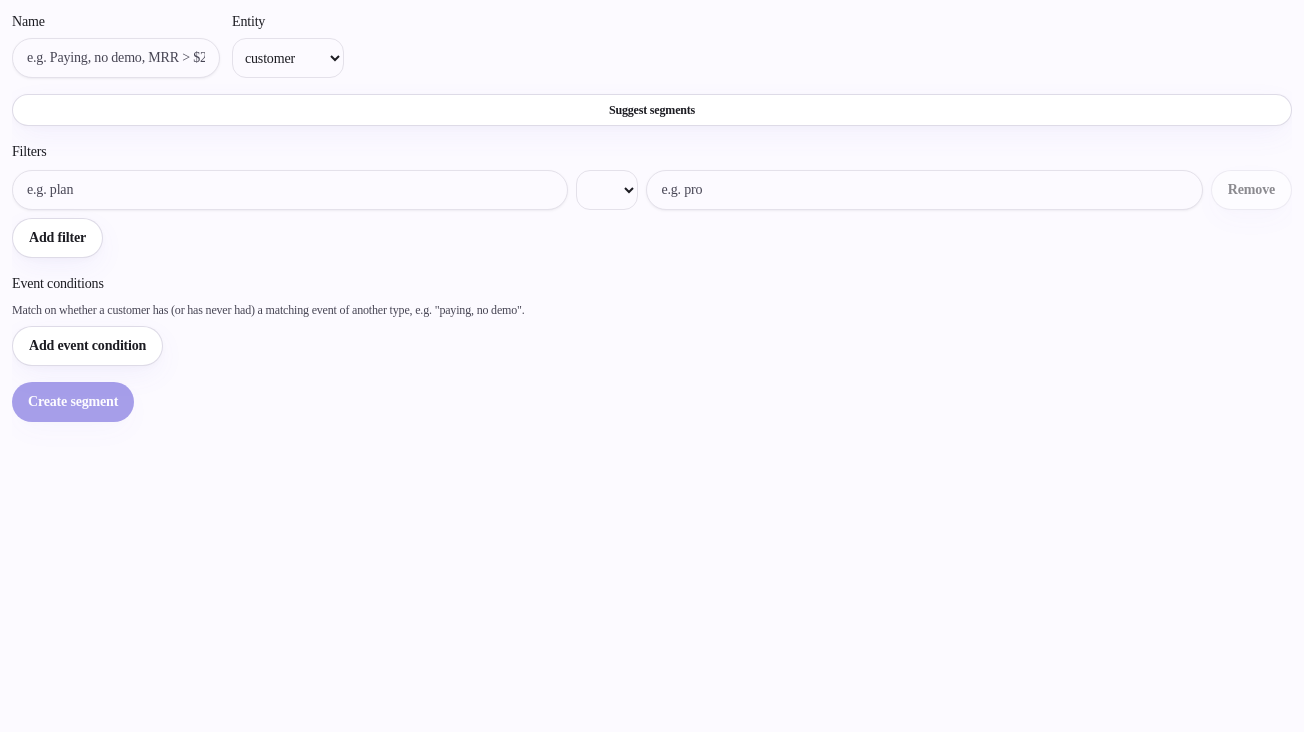
Test: CreateSegmentForm › disables submit until every event condition row has a target schema and a valid withinDays
Type "X" into the field labelled "Name" at (116, 58), box [12,38,220,78]
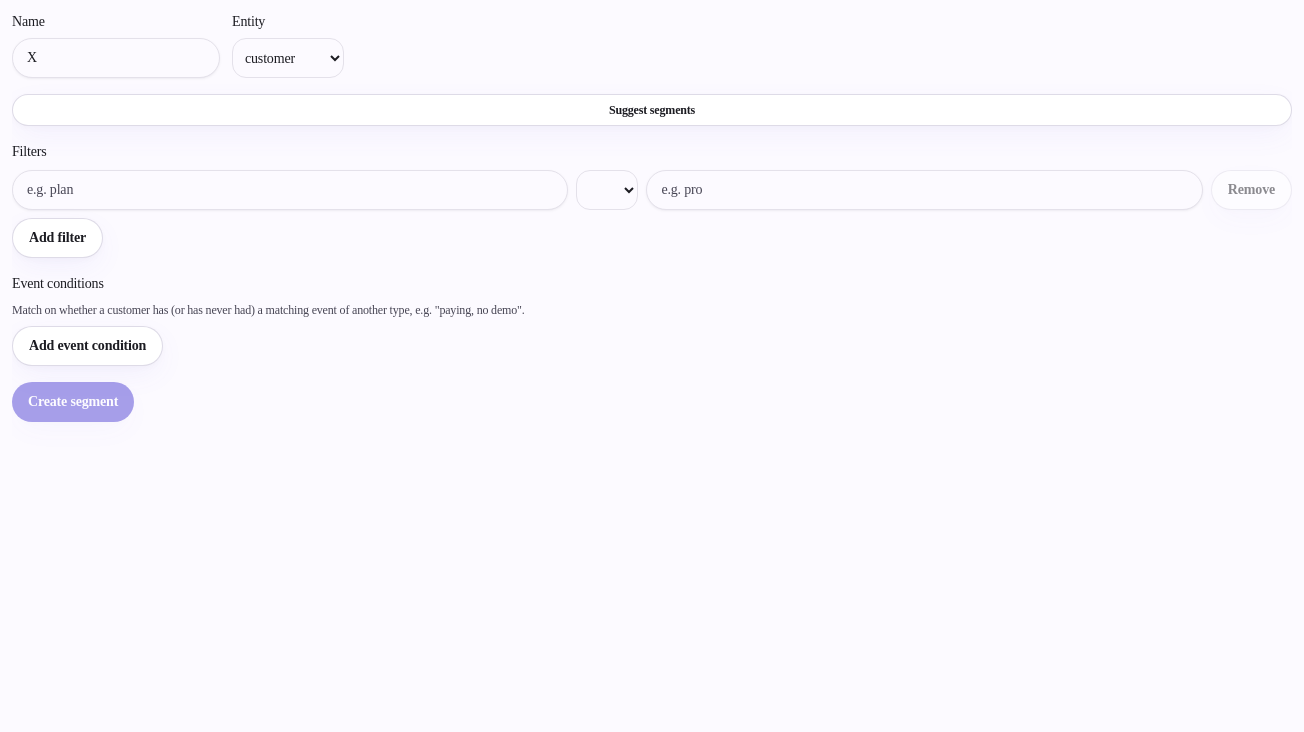
Type "plan" into the field named "Field" at (290, 190), box [12,170,568,210]
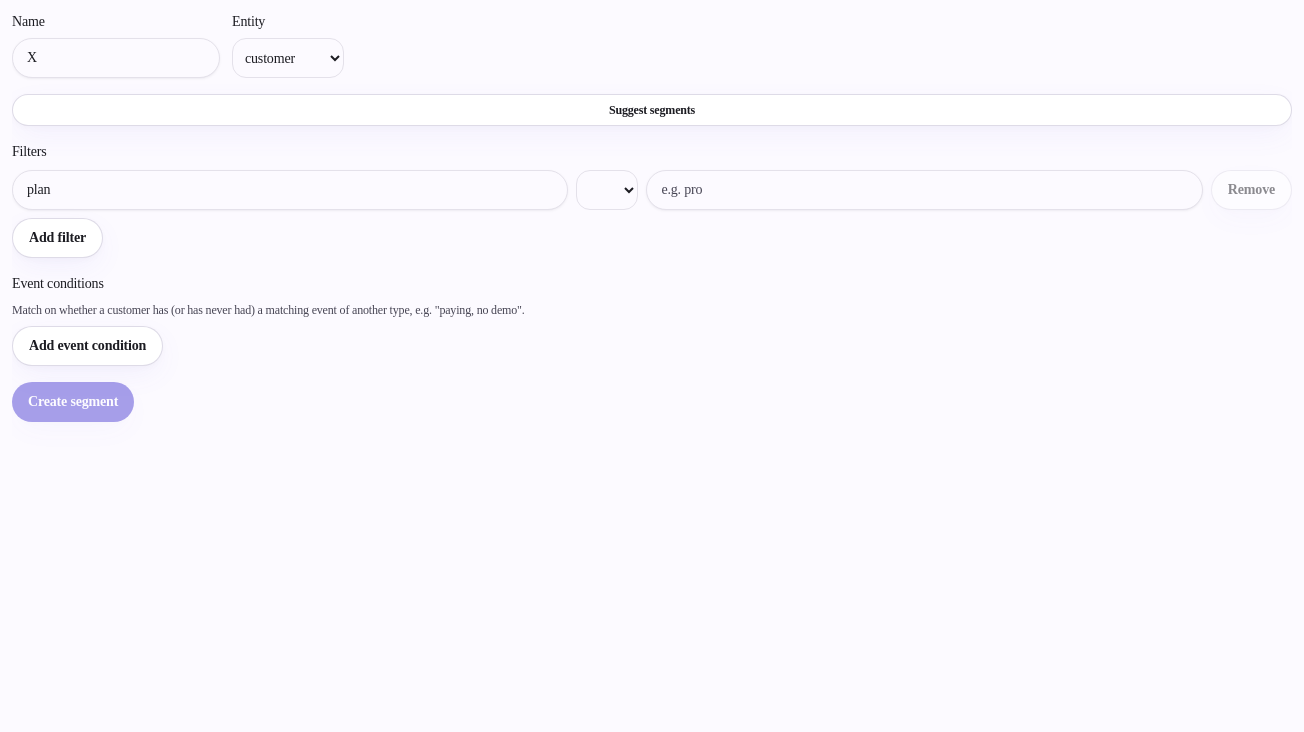
Type "pro" into the field named "Value" at (925, 190), box [646,170,1203,210]
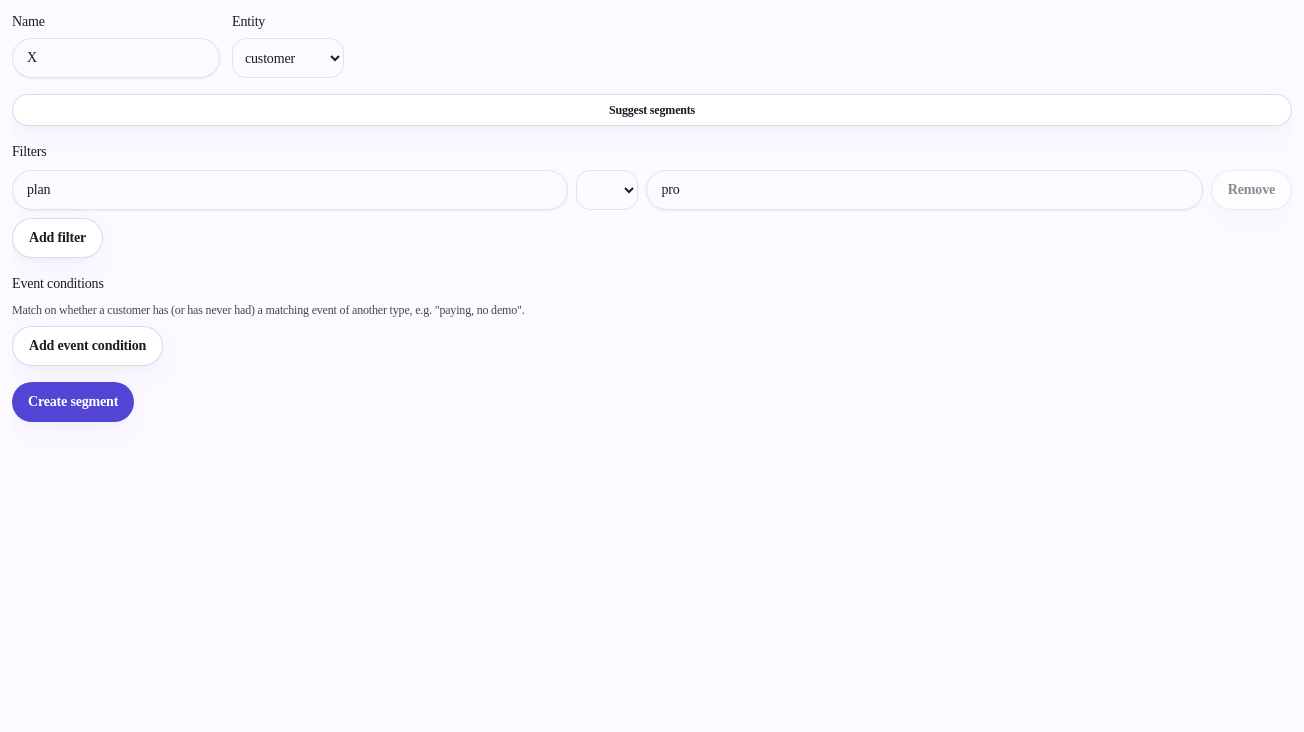
Click the button "Add event condition" at (88, 346), box [12,326,163,366]
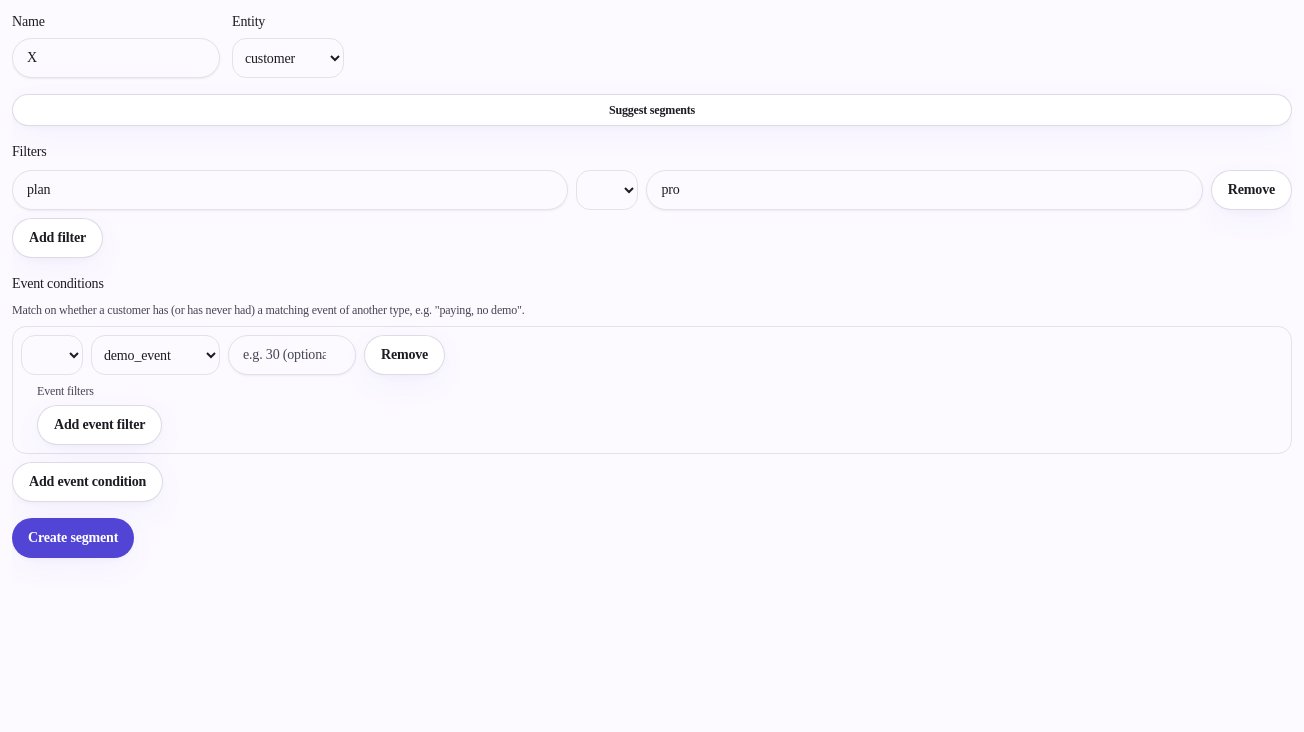
Result: the button "Create segment" is enabled at [12,518,134,558]
Type "-5" into the number field named "Within days" at (292, 355), box [228,335,356,375]
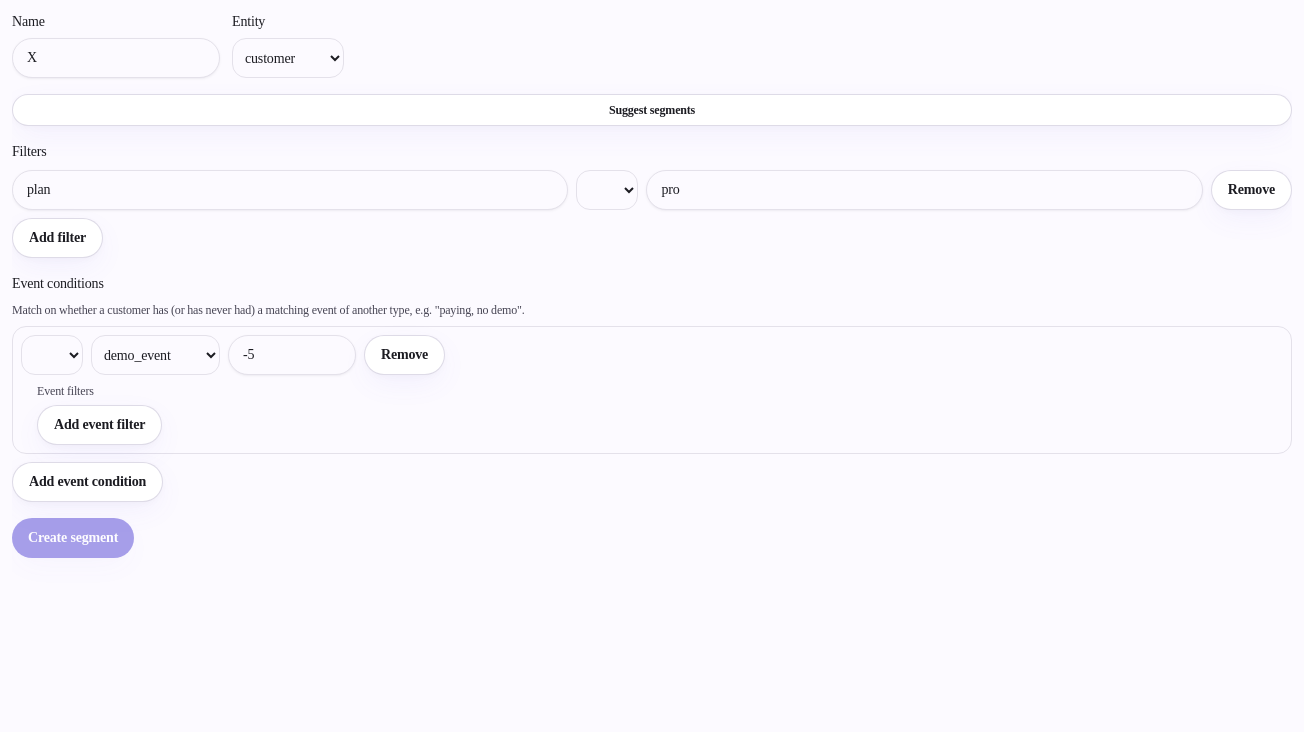
Result: the button "Create segment" is disabled at [12,518,134,558]
Replace the text in the number field named "Within days" with "10" at (292, 355), box [228,335,356,375]
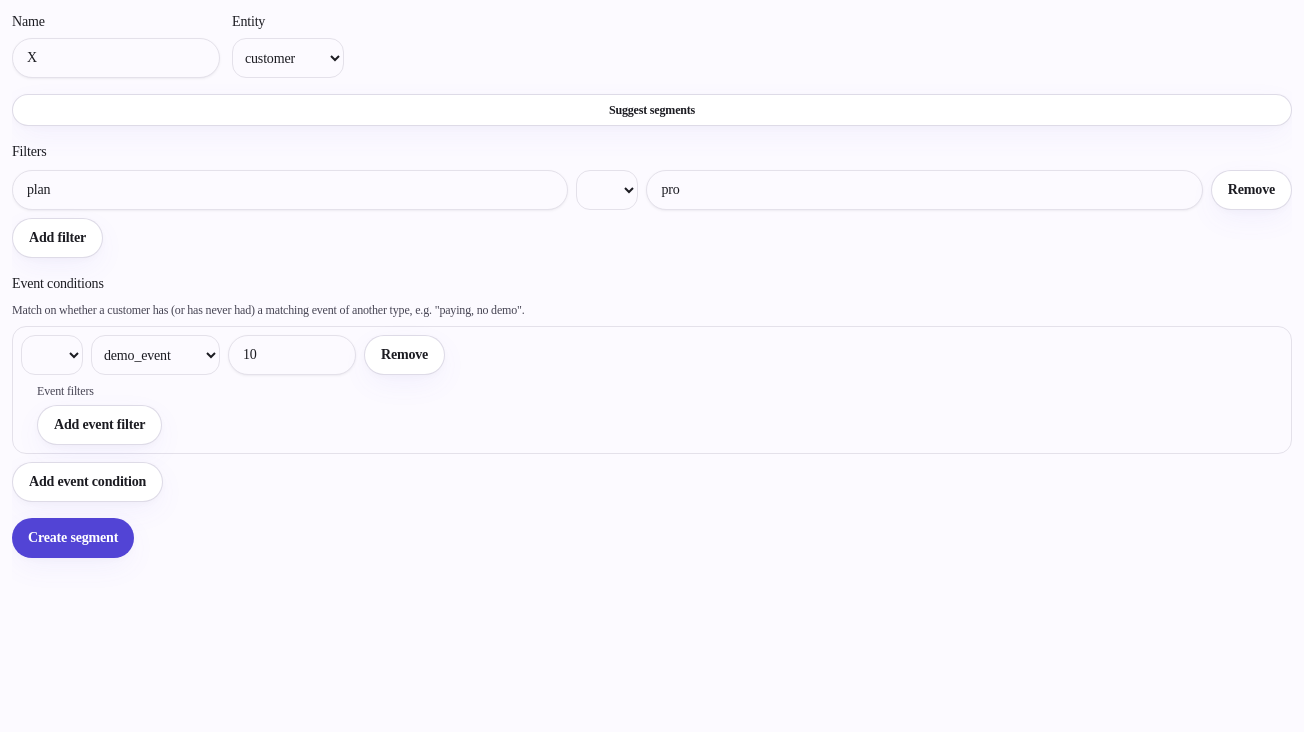
Result: the button "Create segment" is enabled at [12,518,134,558]
